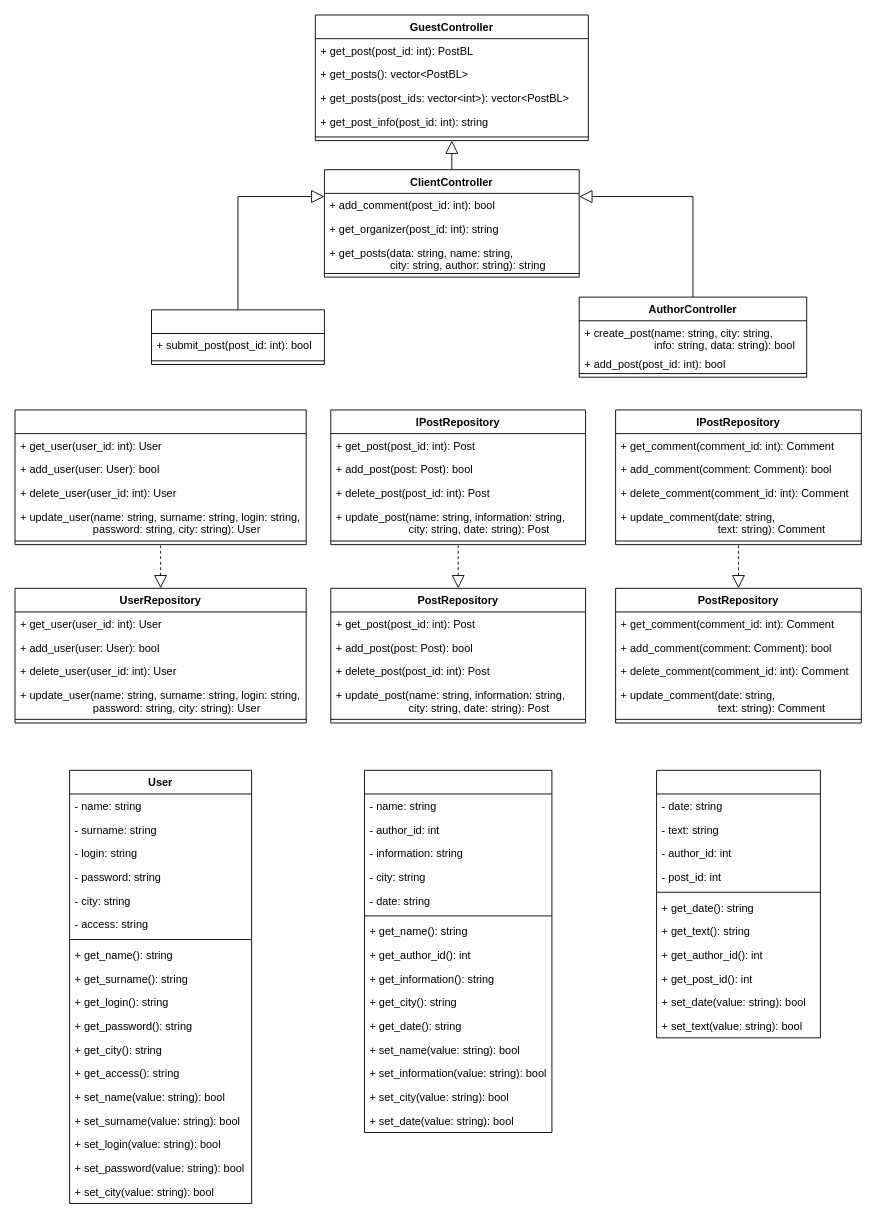
The diagram is 876 pixels wide and 1218 high, and some of its shapes have lost their labels. The shapes that lost their labels are listed below. From the top down, each one's box as (x1, y1, x2, y2) in pixels, then its label:
(151, 309, 324, 364): AdminController
(14, 409, 306, 545): IUserRepository
(656, 769, 820, 1038): Comment
(364, 769, 552, 1132): Post
